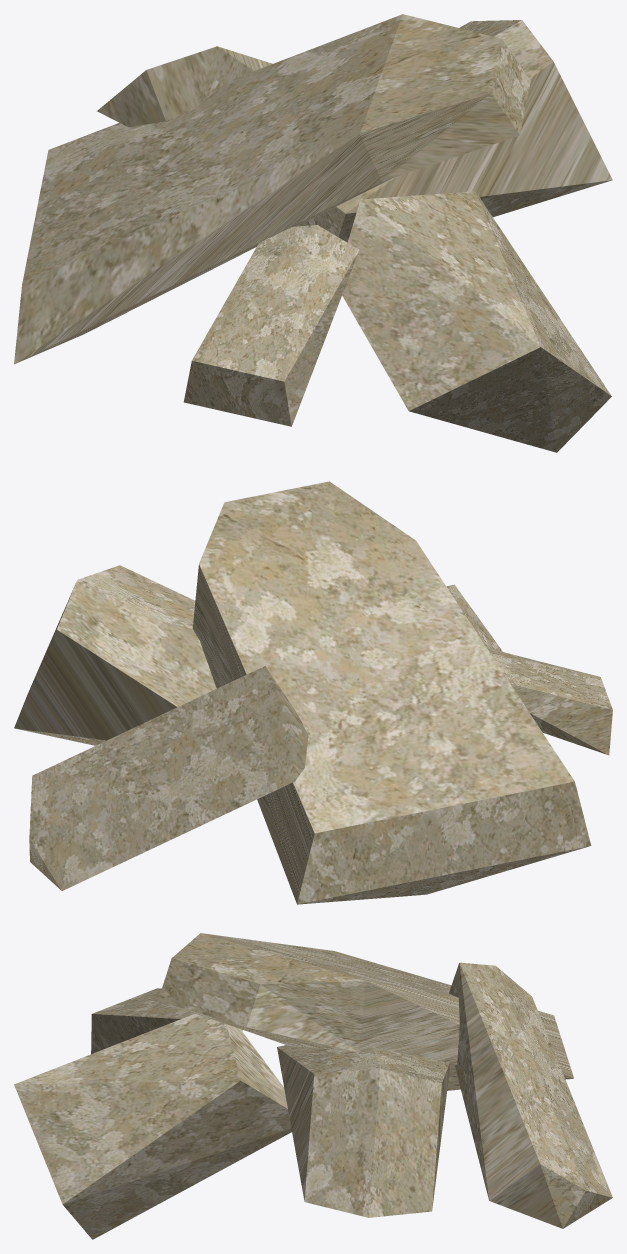
Rendered from rock_formation_a2_l3.fbx.
3 renders of one model, top to bottom at view 1: azimuth 30°, elevation 25°; view 2: azimuth 150°, elevation 25°; view 3: azimuth 270°, elevation 25°, orthographic. The views are drawn at different scales.
Parts seen in each view (by area): view 1: mesh_node; view 2: mesh_node; view 3: mesh_node.
Boxes of the visible parts, bbox=[...] form: mesh_node: bbox=[14, 14, 612, 452]; mesh_node: bbox=[14, 481, 612, 904]; mesh_node: bbox=[14, 933, 612, 1239].
Size of the model in its own units: 11.04 by 5.76 by 11.4.
